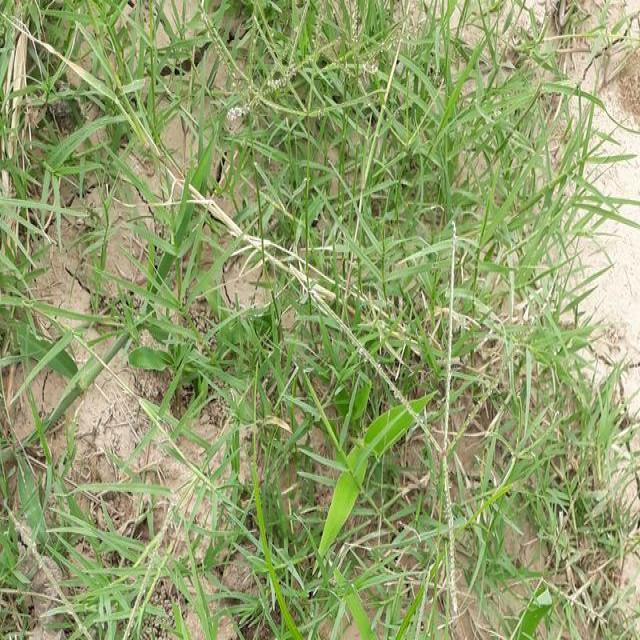weed: (208, 9, 585, 639), (0, 0, 176, 213), (8, 437, 183, 640)
